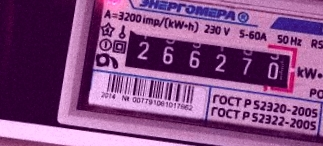0: (264, 58, 279, 81)
2: (134, 38, 151, 61), (212, 50, 227, 73)
6: (159, 44, 175, 65), (185, 47, 201, 68)
7: (236, 54, 252, 77)
screen: (112, 17, 306, 101)
